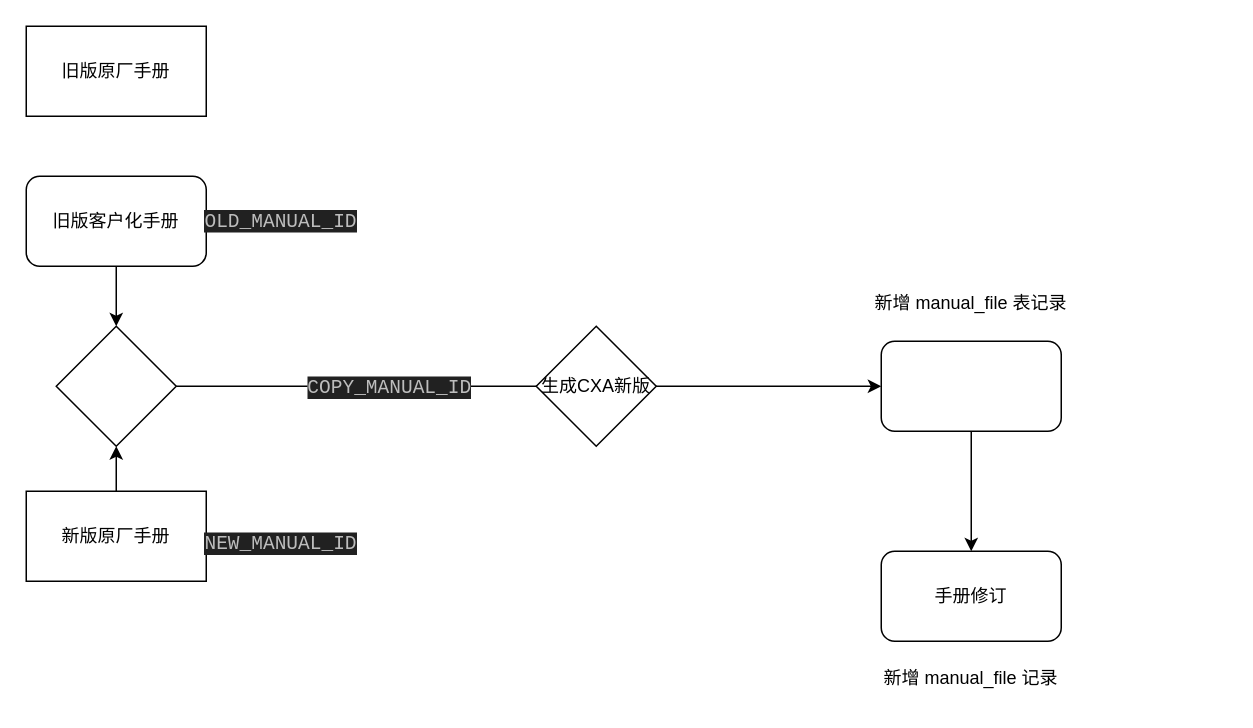
Image size: 1253x728. Some labels were removed from this diagram. Here are the shapes that lost their labels. From the top down, the centre of each, then its label:
At [115,385]: "差异比对".
At [970,385]: "新版客户化手册".
